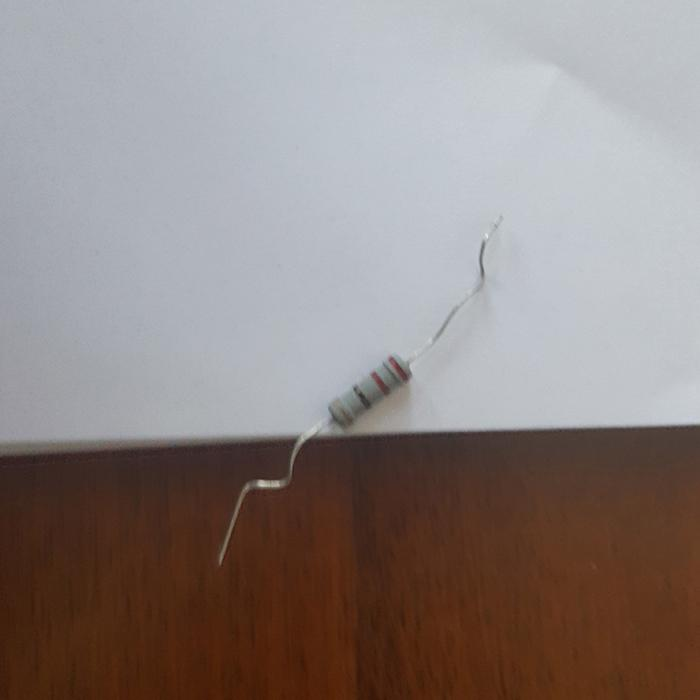resistor: (325, 352, 413, 429)
